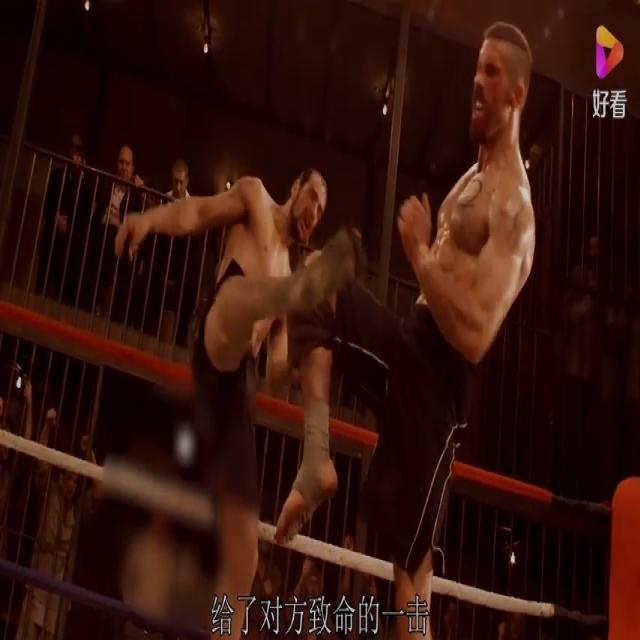fight: (35, 9, 549, 638)
